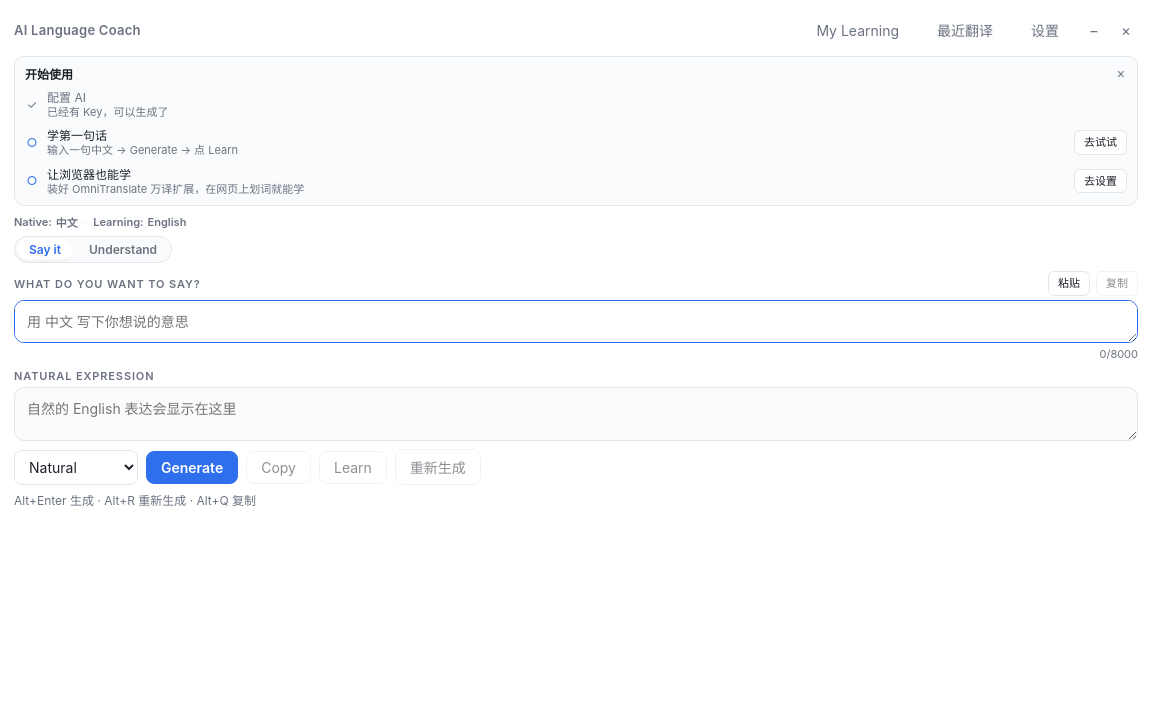
Test case: AssistantPage › pastes at the caret instead of replacing what is already typed
Type "AB" into the text box with placeholder "用 中文 写下你想说的意思".
click(576, 322); type("AB")  # box x1=14 y1=300 x2=1138 y2=343
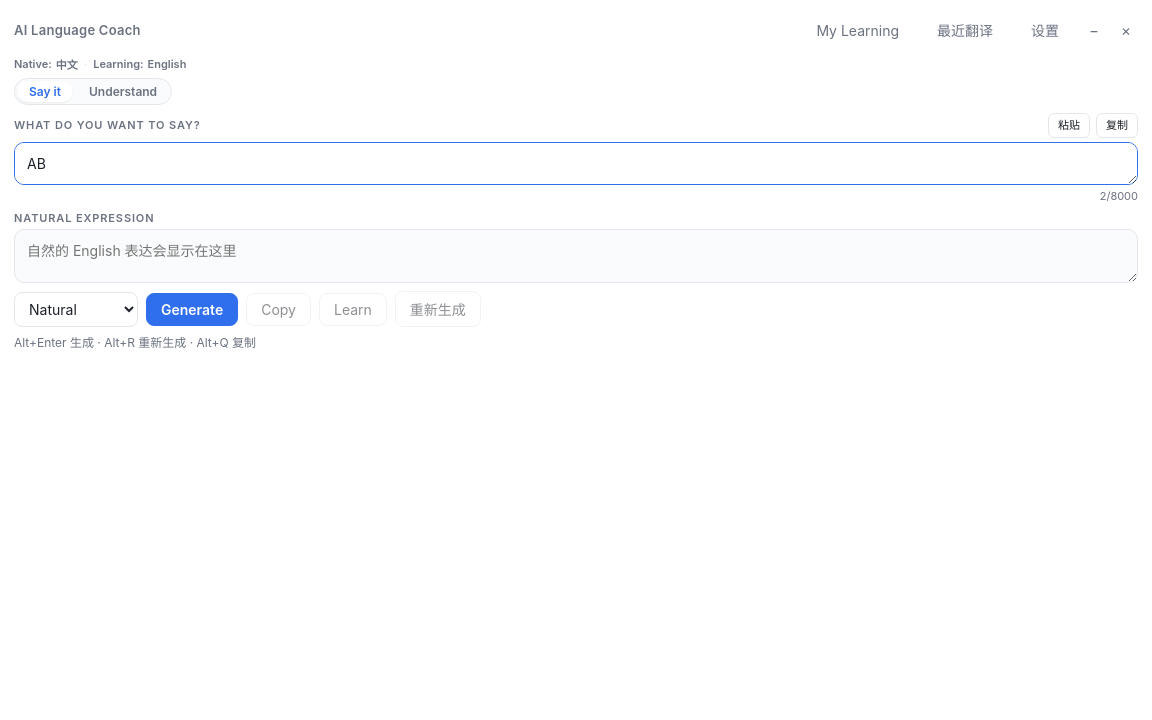
Click the button with aria-label "从剪贴板粘贴".
click(1069, 125)  # box x1=1048 y1=113 x2=1090 y2=138
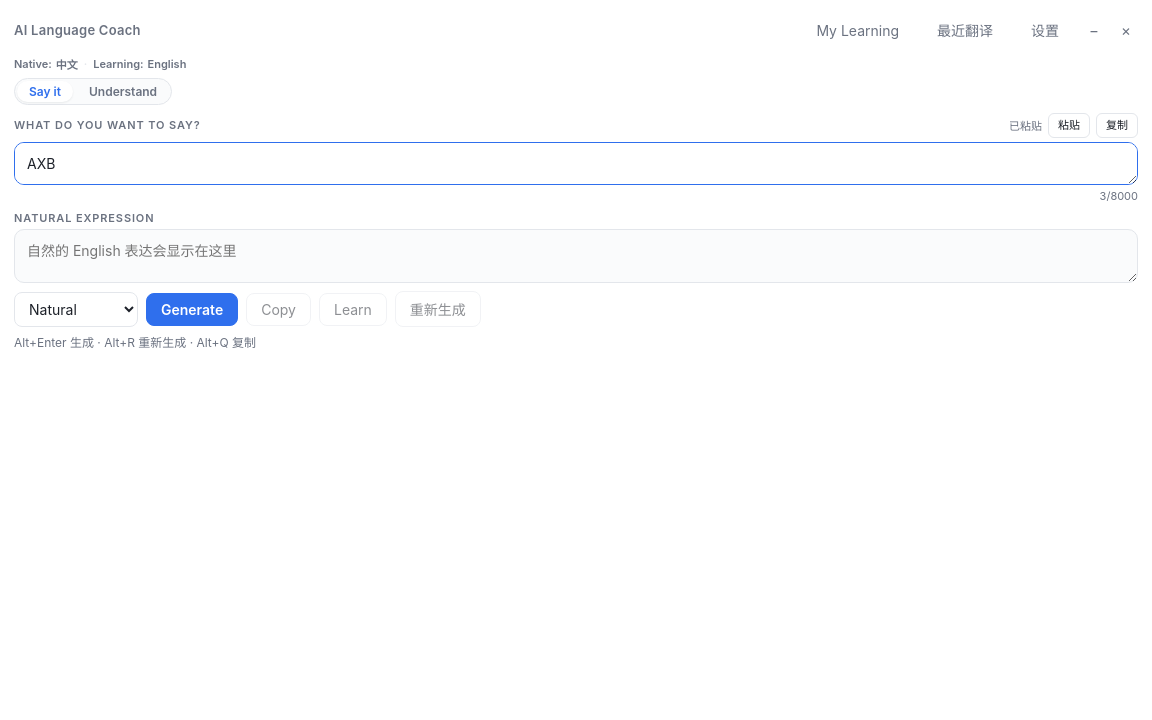
Check: the text box with placeholder "用 中文 写下你想说的意思" holds "AXB", box x1=14 y1=142 x2=1138 y2=185
